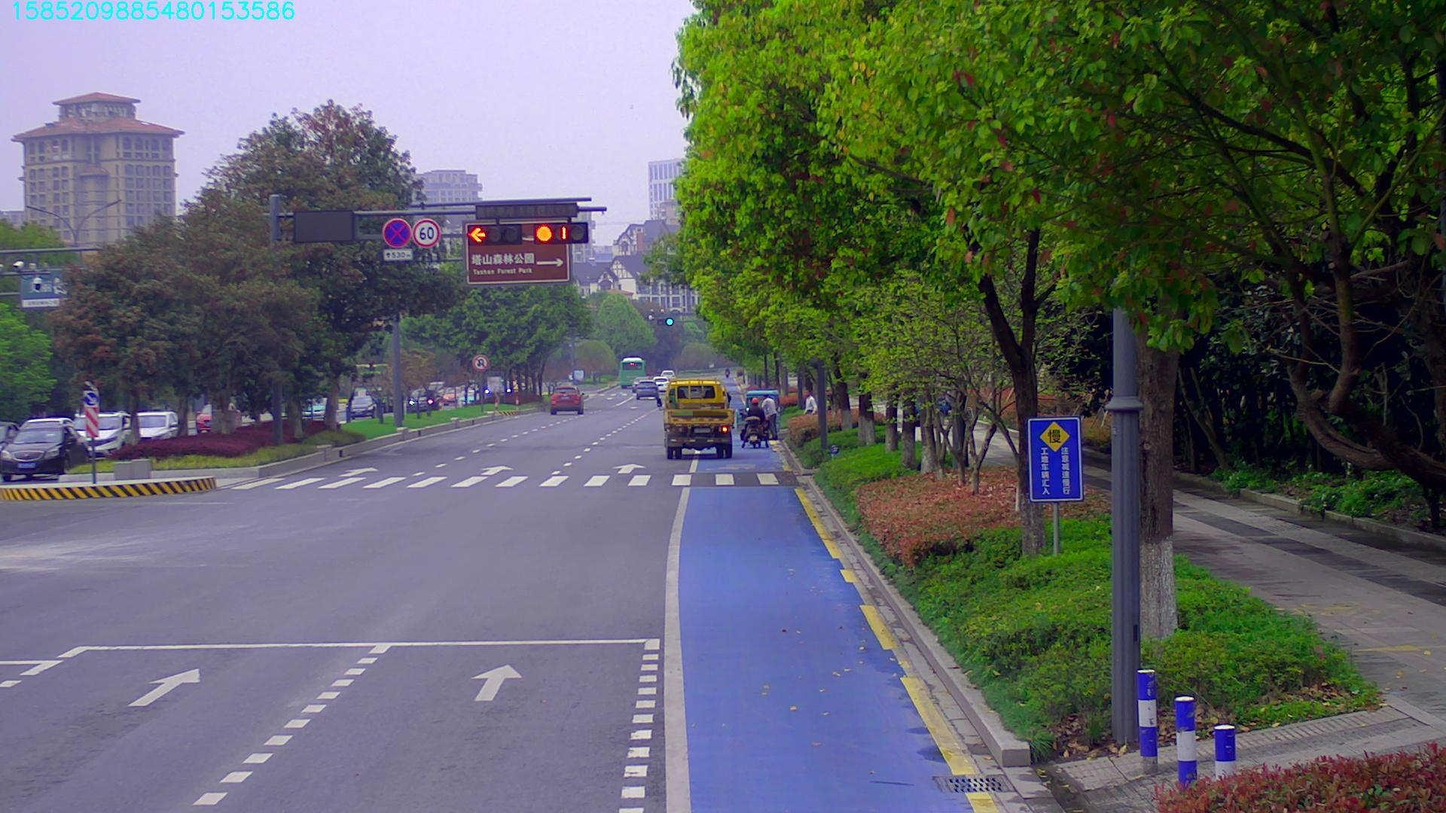red: (531, 220, 594, 247), (465, 226, 523, 244)
